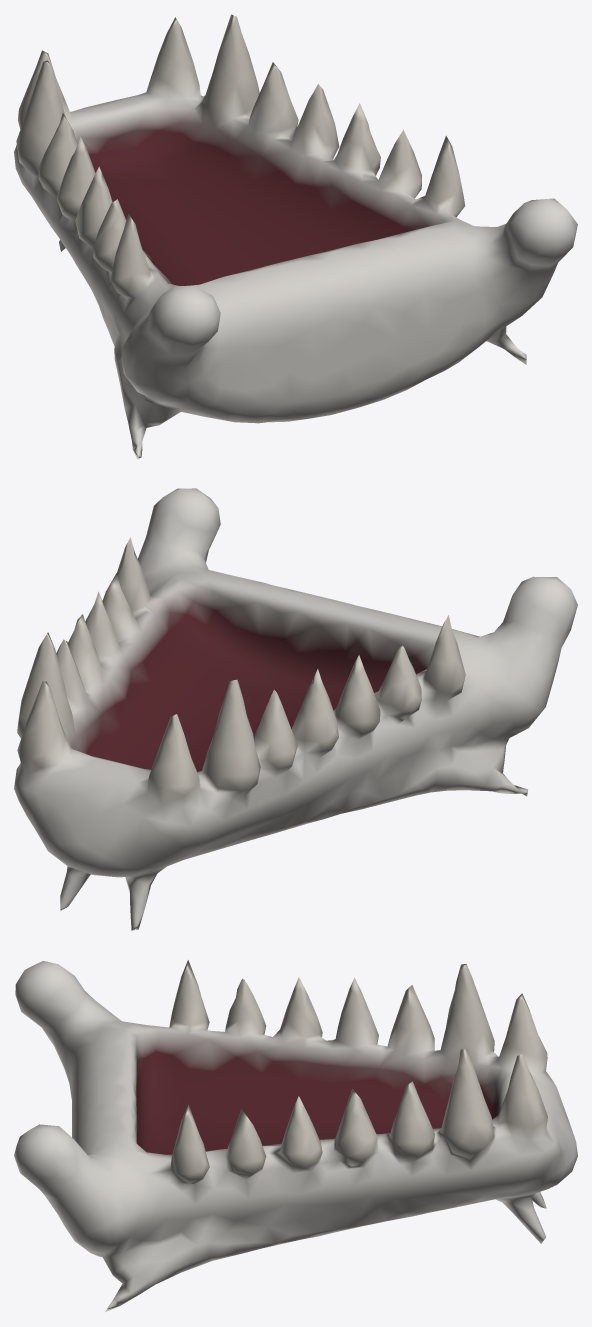
File: BlasterJawFell.glb
The picture shows the model from 3 angles, top to bottom: view 1: azimuth 30°, elevation 25°; view 2: azimuth 150°, elevation 25°; view 3: azimuth 270°, elevation 25°; orthographic projection. The views are drawn at different scales.
Parts seen in each view (by area): view 1: BlasterJawFell; view 2: BlasterJawFell; view 3: BlasterJawFell.
Part boxes in pixels (x1,y1,x2,y2): BlasterJawFell: (14, 14, 577, 459); BlasterJawFell: (14, 488, 577, 930); BlasterJawFell: (14, 960, 577, 1311).
Bounding box in the file's own units: 1.74 × 0.939 × 2.19.
